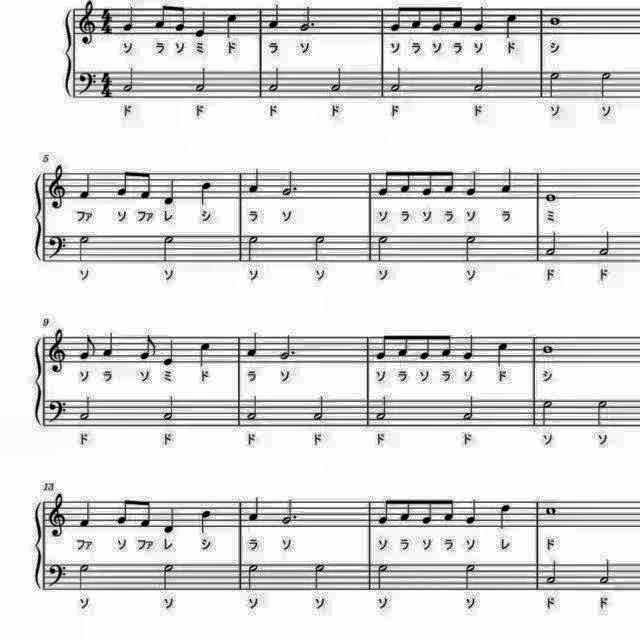Bass-clef: (44, 231, 68, 261), (44, 397, 68, 427), (44, 560, 68, 588), (75, 68, 97, 98)
Eighth-note: (136, 333, 158, 363), (78, 333, 99, 363), (385, 1, 403, 34), (116, 496, 134, 528), (138, 496, 154, 532), (138, 166, 154, 202), (117, 170, 135, 202), (418, 166, 436, 198), (375, 166, 393, 198), (375, 496, 393, 528), (418, 497, 436, 528), (373, 332, 391, 363), (172, 3, 188, 35), (397, 164, 413, 196), (418, 332, 434, 364), (410, 1, 426, 32), (396, 495, 412, 525), (442, 495, 458, 525), (152, 3, 168, 33), (440, 332, 456, 361), (394, 332, 410, 361), (442, 167, 458, 196), (430, 3, 444, 35), (450, 2, 466, 30)
Full-note: (548, 12, 564, 28), (542, 188, 558, 204), (539, 342, 555, 358), (542, 503, 558, 517)
Half-dot: (277, 332, 299, 363), (296, 2, 316, 34), (279, 497, 299, 529), (279, 166, 299, 198)
Half-note: (158, 230, 178, 262), (460, 232, 480, 264), (594, 68, 614, 100), (160, 394, 180, 424), (245, 232, 263, 264), (375, 232, 393, 264), (547, 68, 565, 100), (159, 560, 177, 592), (461, 560, 479, 592), (242, 560, 260, 592), (375, 562, 393, 594), (593, 396, 611, 428), (311, 562, 329, 594), (311, 232, 329, 264), (374, 394, 392, 424), (460, 394, 478, 424), (76, 394, 94, 424), (244, 394, 262, 424), (470, 66, 488, 96), (542, 556, 560, 586), (542, 229, 560, 259), (596, 229, 614, 259), (597, 556, 615, 586), (327, 66, 345, 96), (191, 66, 209, 96), (76, 232, 92, 264), (76, 562, 92, 594), (122, 66, 138, 98), (268, 66, 284, 98), (312, 393, 328, 423), (388, 66, 404, 96), (540, 400, 556, 430)
Quarter-note: (76, 168, 94, 202), (119, 2, 137, 34), (162, 504, 180, 536), (76, 500, 94, 532), (161, 174, 179, 206), (161, 337, 179, 368), (197, 340, 215, 370), (496, 502, 514, 532), (462, 167, 480, 197), (493, 339, 511, 369), (193, 7, 210, 38), (459, 332, 476, 363), (98, 332, 116, 361), (472, 2, 488, 34), (245, 165, 262, 195), (243, 330, 260, 360), (197, 180, 215, 208), (501, 12, 519, 40), (462, 498, 478, 528), (267, 0, 283, 30), (498, 167, 514, 197), (198, 508, 215, 536), (222, 12, 238, 40), (246, 496, 262, 524)
Treble-clef: (46, 161, 70, 211), (45, 492, 69, 540), (46, 327, 68, 377), (78, 0, 99, 44)
